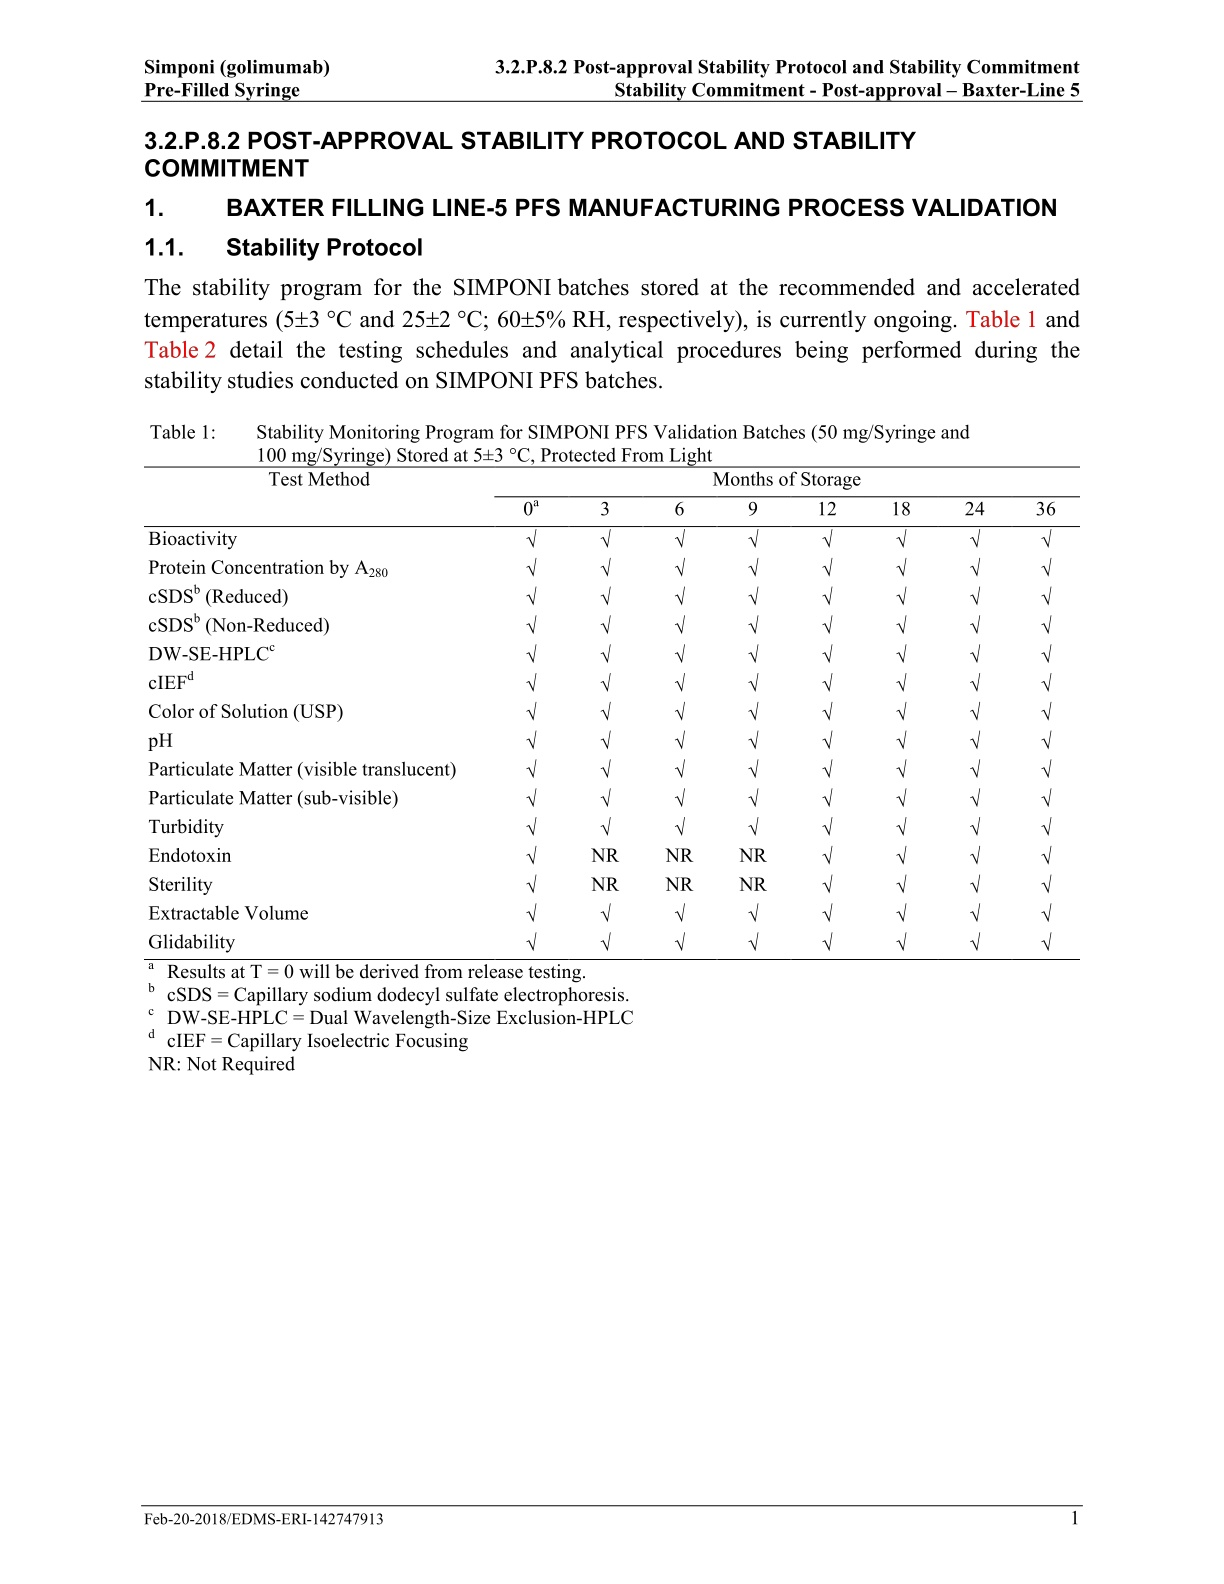partial_lined_merged_cells: (141, 465, 1083, 963)
